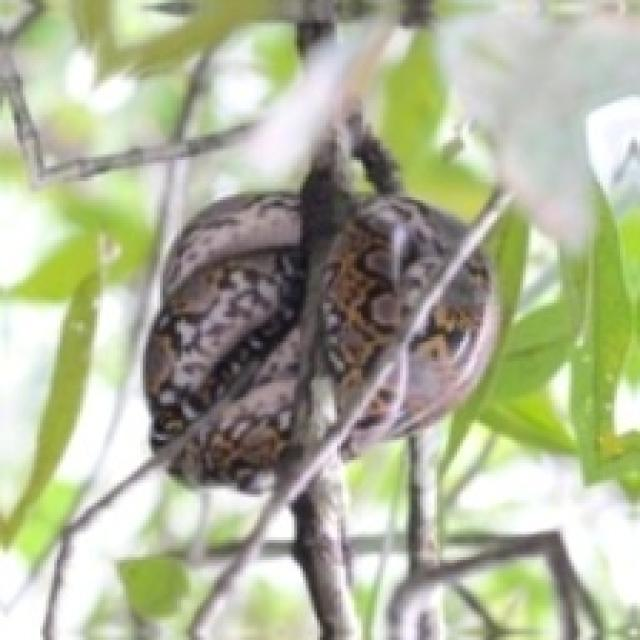reticulated python: (143, 114, 500, 494), (143, 117, 500, 489)
